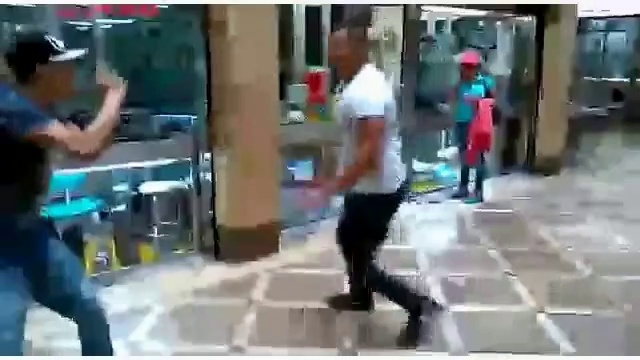normal: (293, 23, 441, 350)
